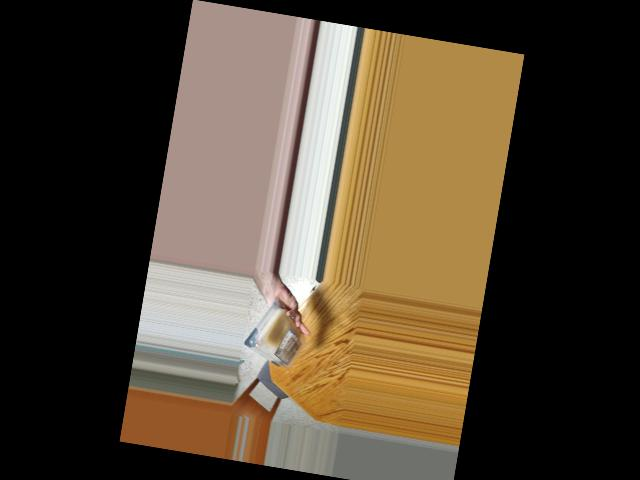cheese: (246, 297, 301, 370)
